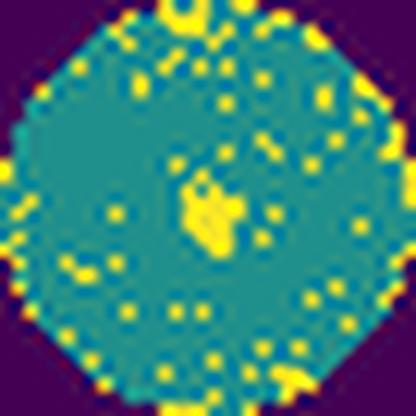Center: (181, 162, 252, 266)
